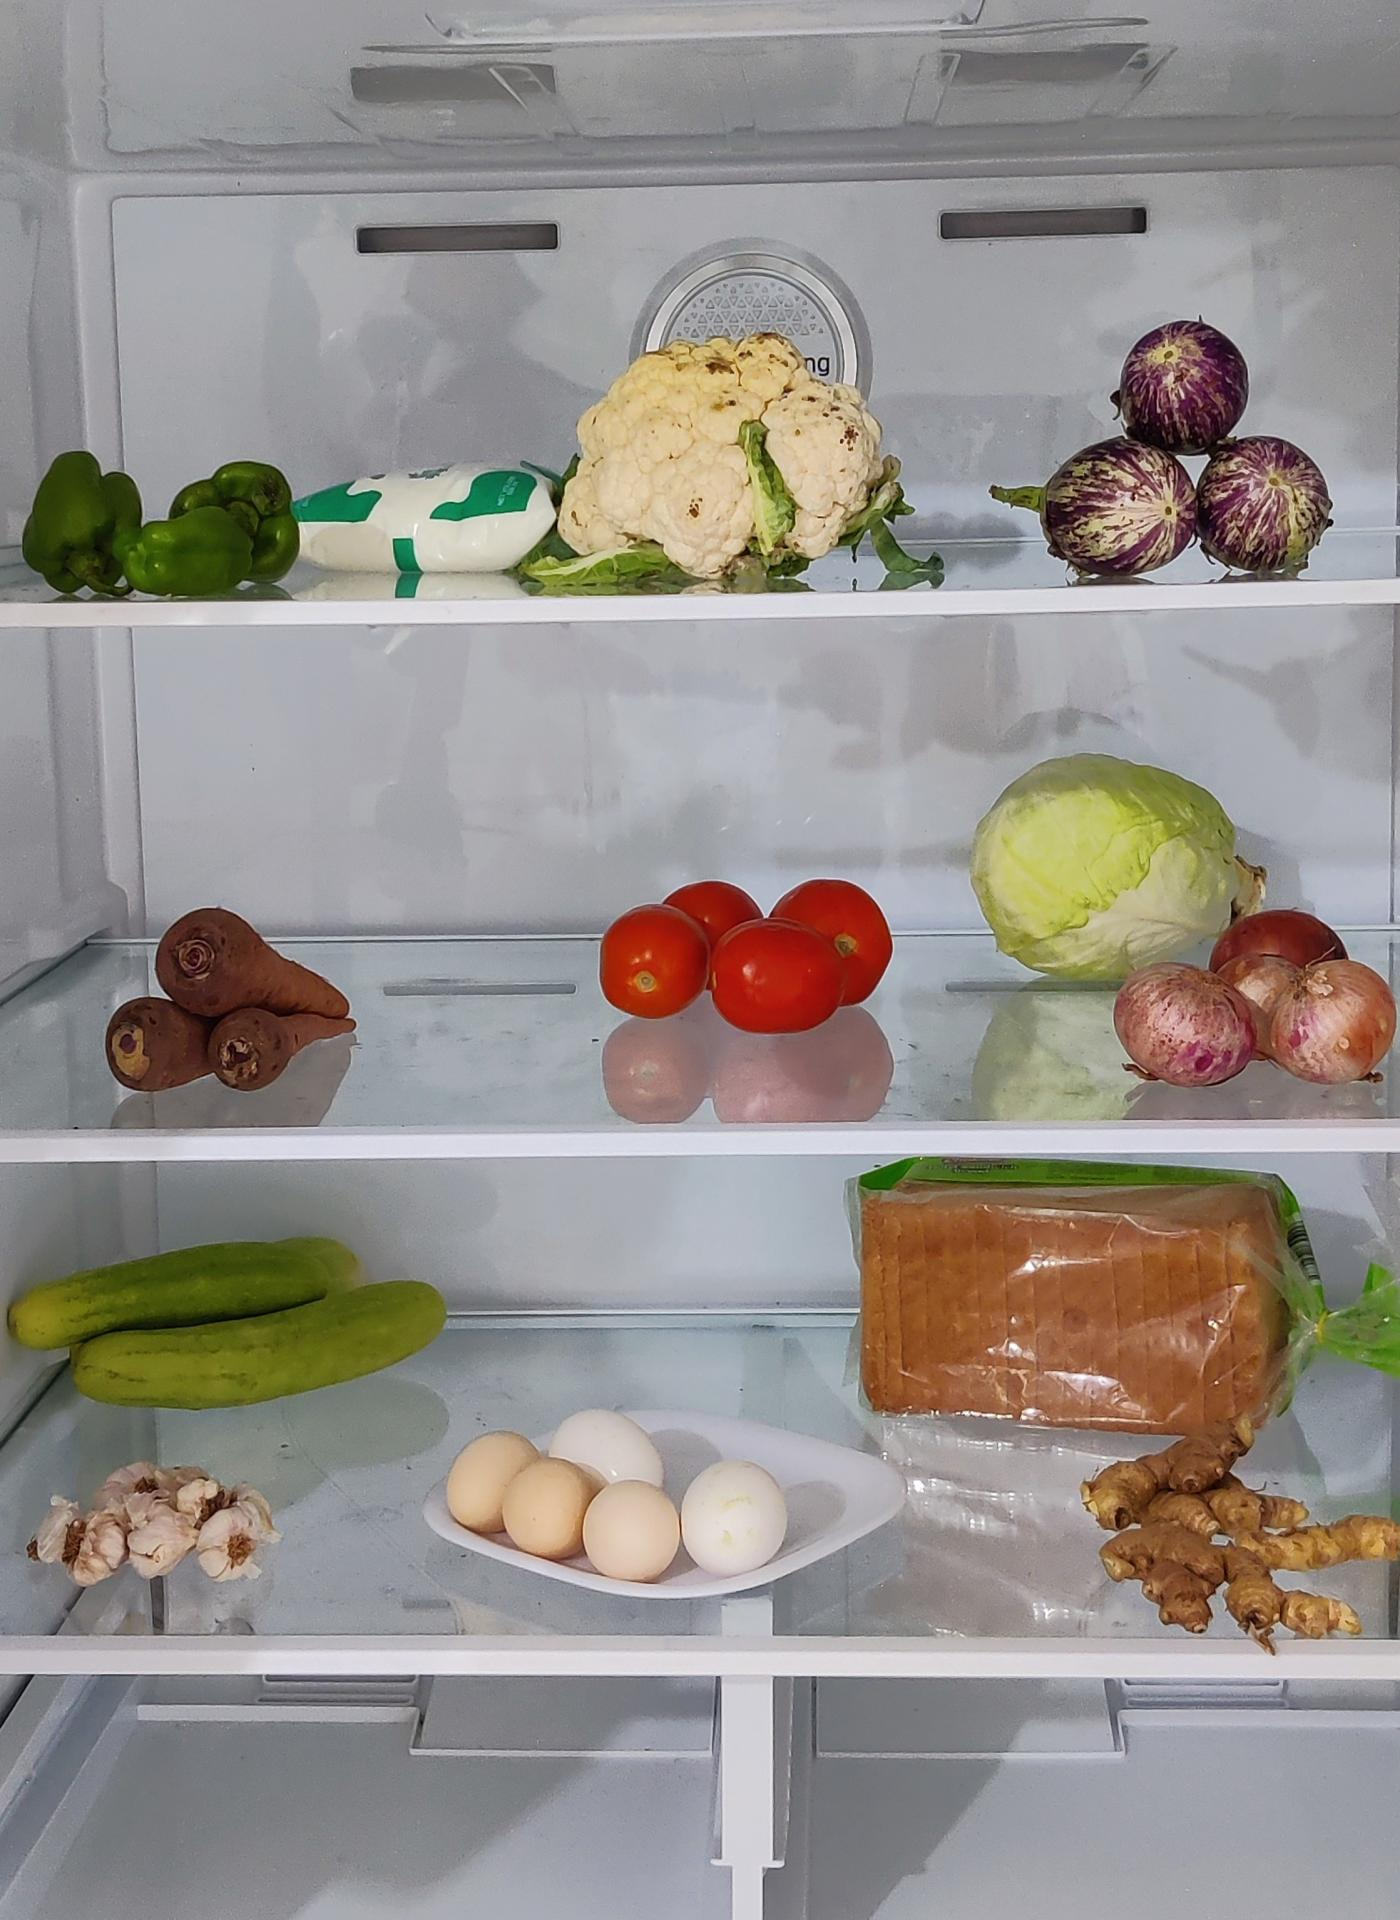bread: (844, 1157, 1318, 1434)
brinjal: (1021, 329, 1324, 568)
cabbage: (969, 751, 1266, 973)
capsicum: (24, 444, 306, 595)
carrots: (97, 911, 353, 1106)
cauliflower: (559, 332, 908, 578)
cucumber: (21, 1234, 455, 1410)
egg: (458, 1389, 805, 1582)
garlic: (27, 1456, 279, 1586)
ginger: (1090, 1479, 1388, 1643)
milk: (280, 459, 555, 586)
onion: (1141, 912, 1387, 1100)
tomato: (607, 871, 901, 1026)
